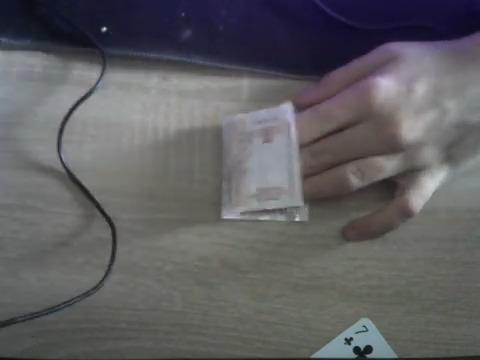5leva: (219, 102, 309, 224)
